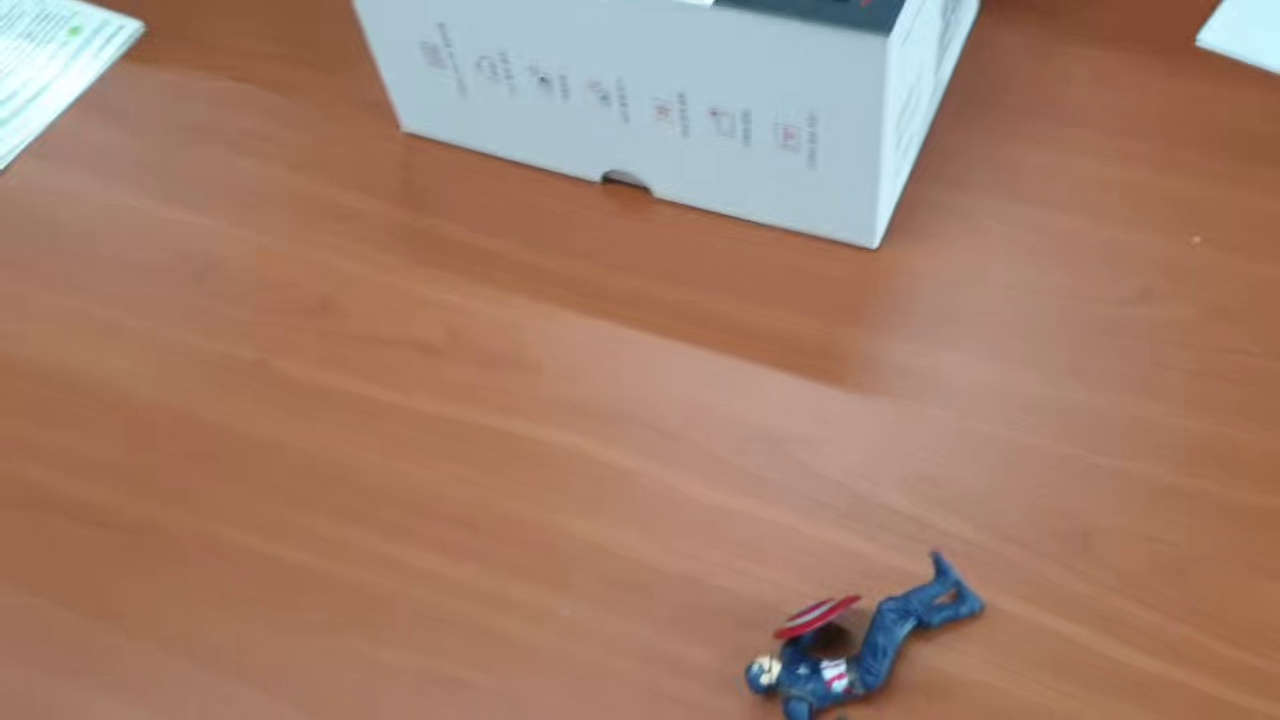people: (738, 550, 991, 720)
